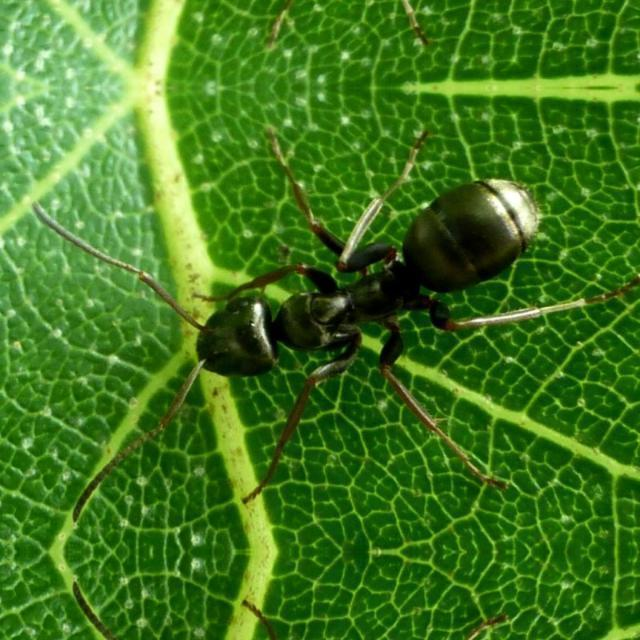Formica: (117, 132, 571, 430)
